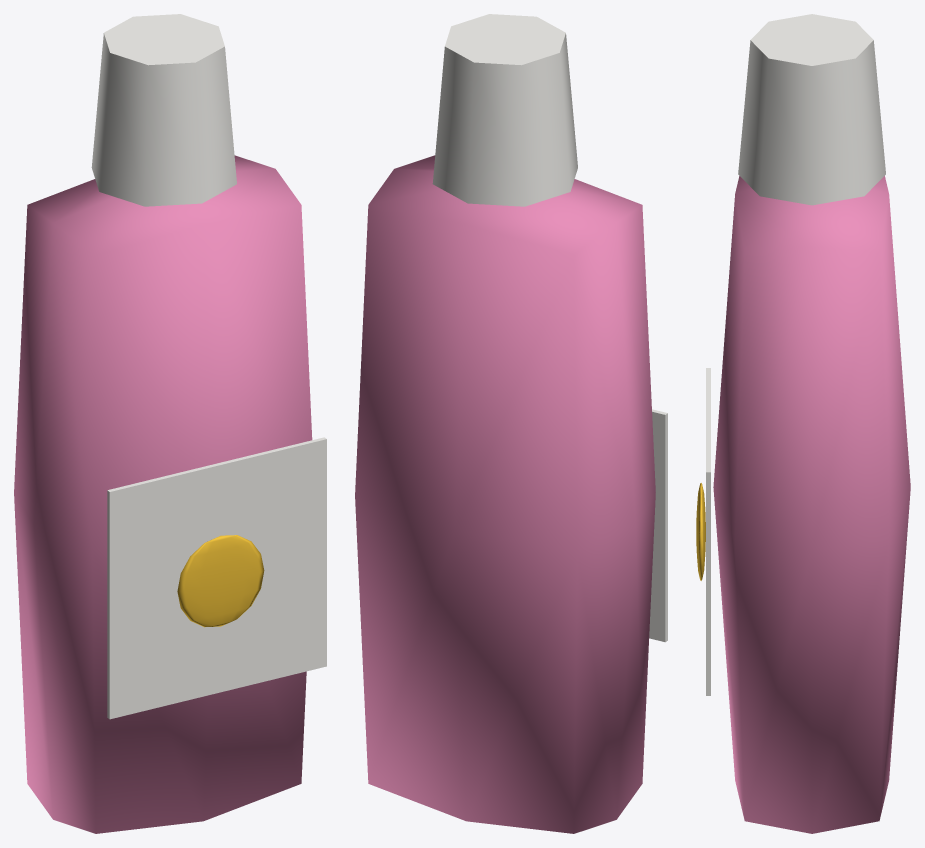
The model's file is shampoo.glb.
3 views of the same model, side by side, from view 1: azimuth 30°, elevation 25°; view 2: azimuth 150°, elevation 25°; view 3: azimuth 270°, elevation 25° (orthographic).
Parts seen in each view (by area): view 1: root; view 2: root; view 3: root.
Boxes of the visible parts, left/top/right/bottom form: root: left=14, top=14, right=326, bottom=833; root: left=355, top=14, right=667, bottom=833; root: left=696, top=14, right=910, bottom=833.
Bounding box in the file's own units: 0.12 × 0.34 × 0.087.
